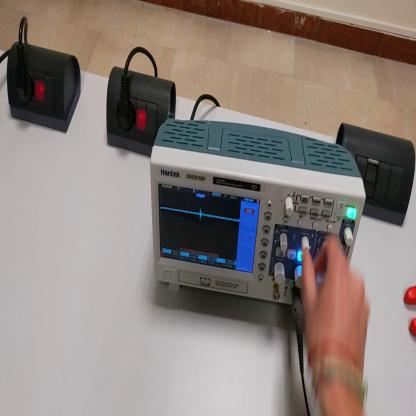hand: (300, 234, 373, 390)
oscilloscope: (151, 118, 367, 308)
pliers: (404, 283, 416, 339)
socket: (6, 42, 82, 136), (105, 65, 178, 160)
